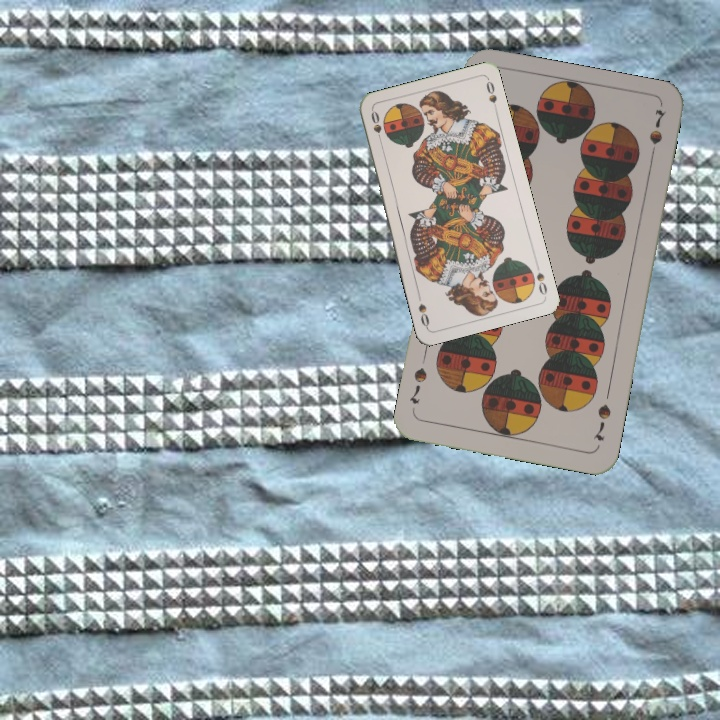S7: (589, 400, 614, 444)
SO: (531, 259, 550, 298), (367, 107, 385, 147)
